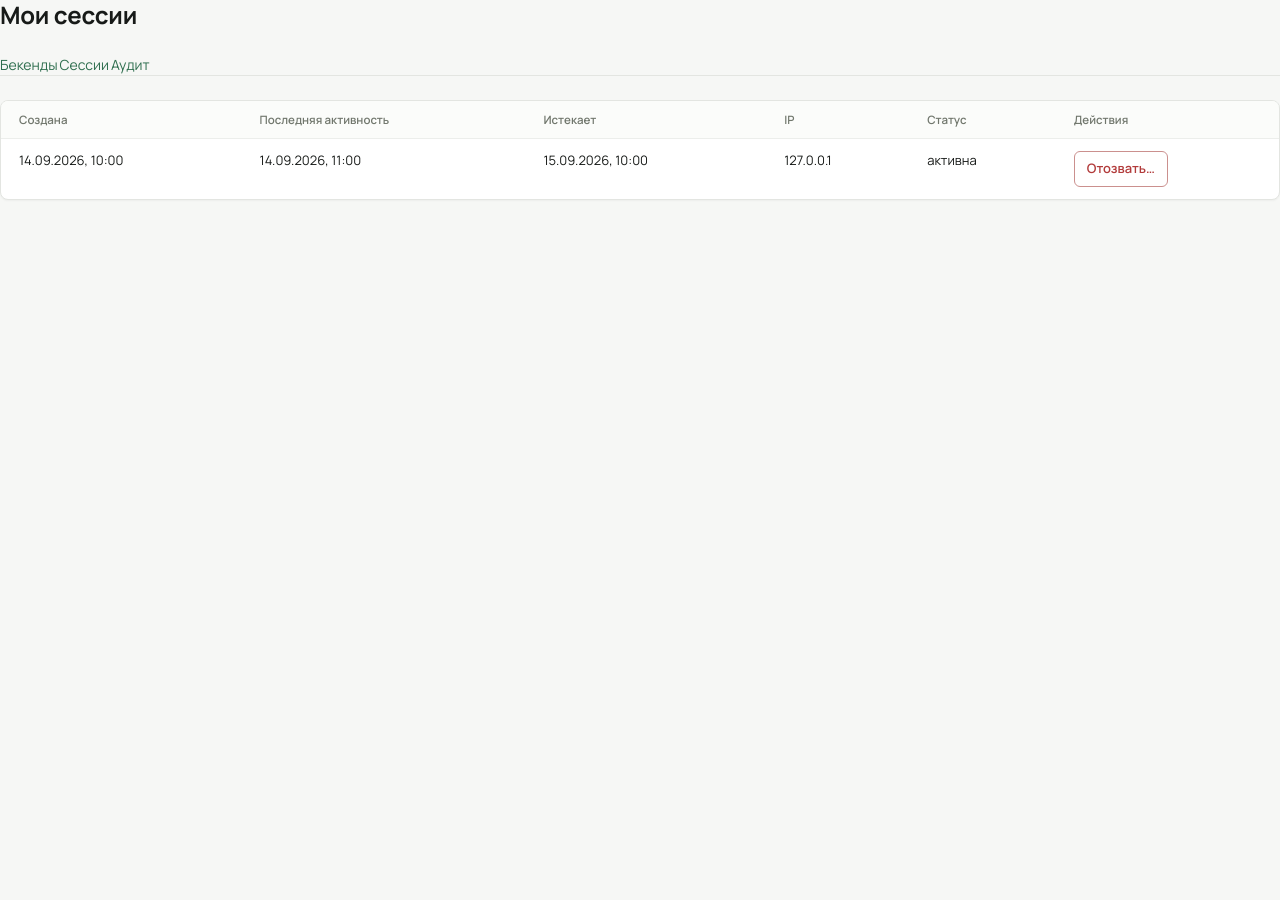
Test: SessionsPage › opens a confirmation dialog before revoke and does not revoke from the row
The width and height of the screenshot is (1280, 900).
Click the button "Отозвать…" at (1121, 169), box [1074, 151, 1168, 187]
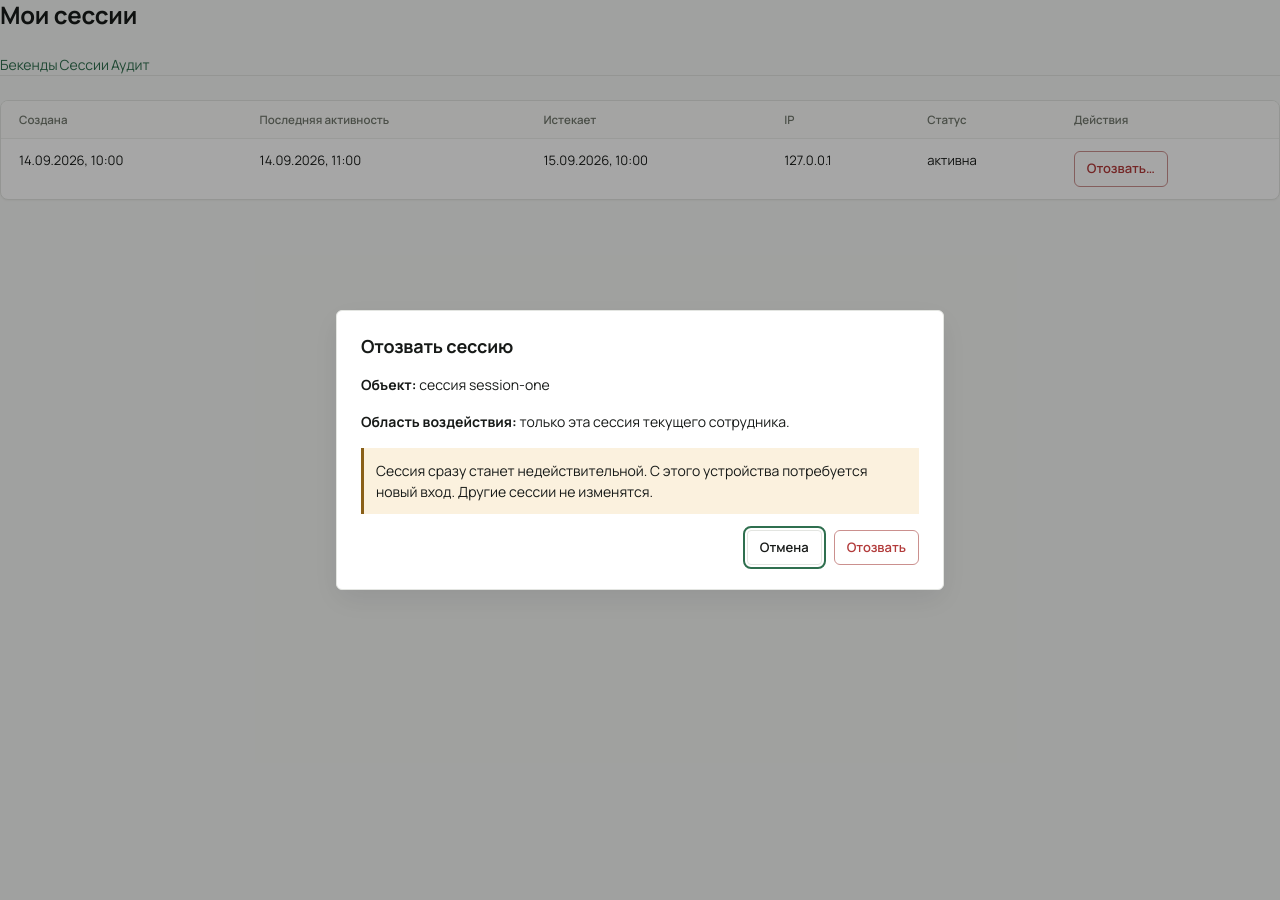
Expected: the heading "Отозвать сессию" is shown, [361, 334, 513, 358]
Expected: the text "сразу станет недействительной" is shown, [376, 460, 868, 500]
Expected: the button "Отозвать" is shown, [834, 530, 919, 565]
